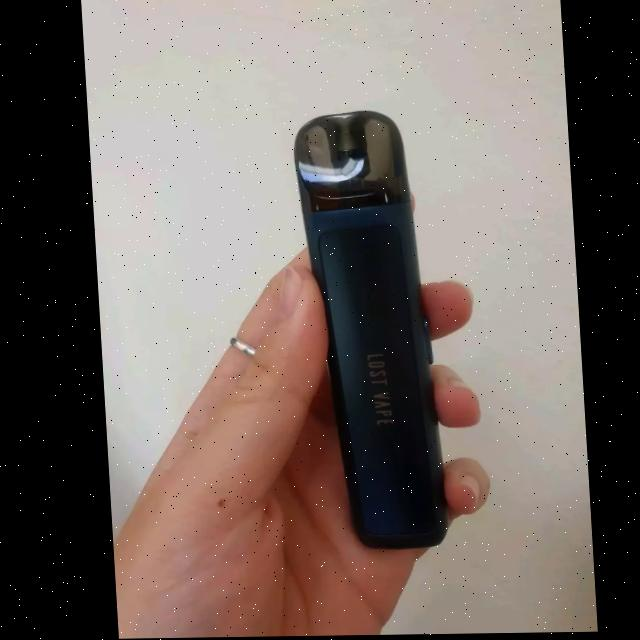vape: (289, 108, 446, 552)
